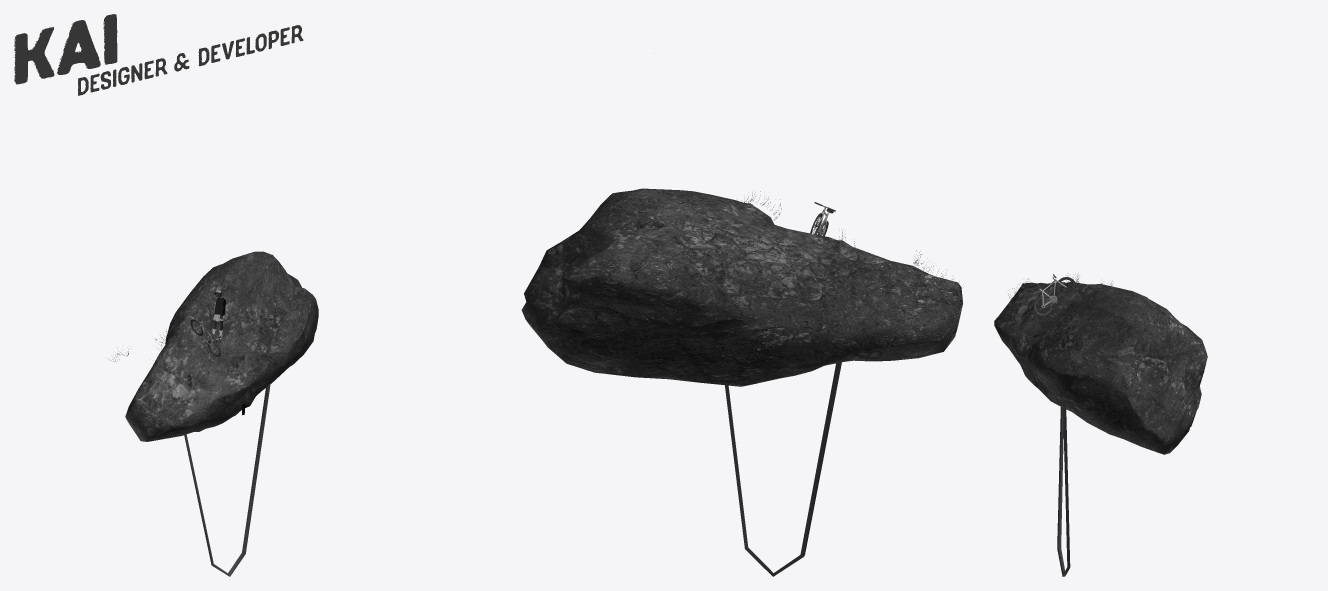
The model's file is cliff.glb.
3 renders of one model, left to right at view 1: azimuth 30°, elevation 25°; view 2: azimuth 150°, elevation 25°; view 3: azimuth 270°, elevation 25°, orthographic. The views are drawn at different scales.
Parts seen in each view (by area): view 1: Rock, object 266, K Block, A Block, I Block; view 2: Rock, object 266; view 3: Rock, object 266.
Boxes of the visible parts, x1,y1,x2,y2 form: Rock: (125, 251, 318, 441); object 266: (184, 383, 270, 576); K Block: (15, 27, 54, 84); A Block: (57, 20, 100, 74); I Block: (104, 14, 117, 64); Rock: (521, 188, 962, 386); object 266: (725, 362, 841, 576); Rock: (994, 281, 1207, 454); object 266: (1057, 401, 1070, 576).
Size of the model in its own units: 5.05 by 7.64 by 4.3.
15 materials, 2 textured.
